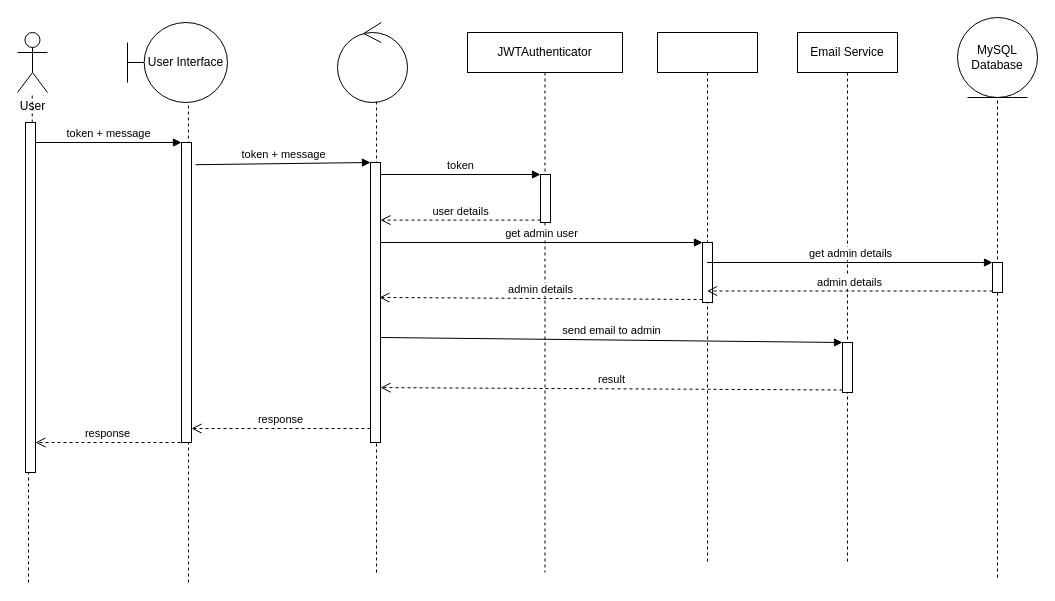
Some shapes in this 1055 by 601 pixel diagram are drawn without their labels. The shapes that lost their labels are listed below. From the top down, each one's centre as x and y in pixels, then its label:
At [372,62]: "Server Controller".
At [707,297]: "User service".
